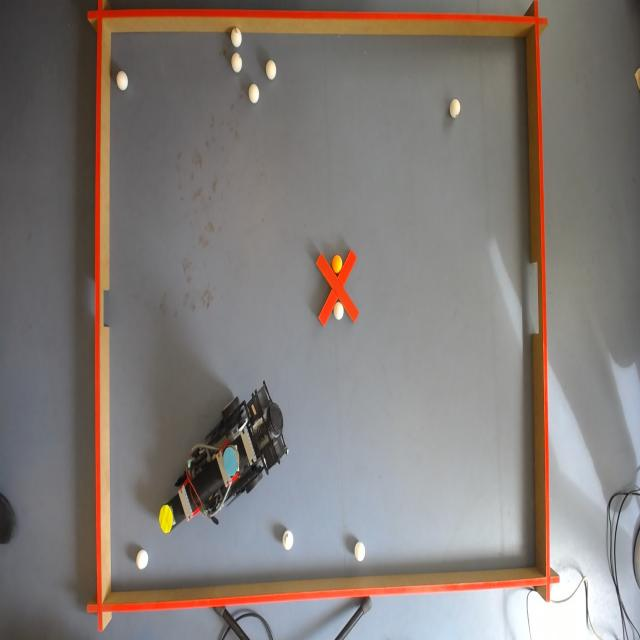orange: (332, 255, 343, 273)
robot: (159, 380, 285, 535)
robot-front: (159, 504, 173, 535)
robot-rear: (224, 440, 241, 481)
white: (134, 550, 150, 570), (116, 73, 131, 93), (355, 542, 368, 563), (284, 530, 296, 552), (247, 85, 260, 105), (230, 27, 243, 47), (232, 52, 243, 72), (332, 302, 343, 322), (266, 60, 278, 78), (450, 98, 461, 116)
